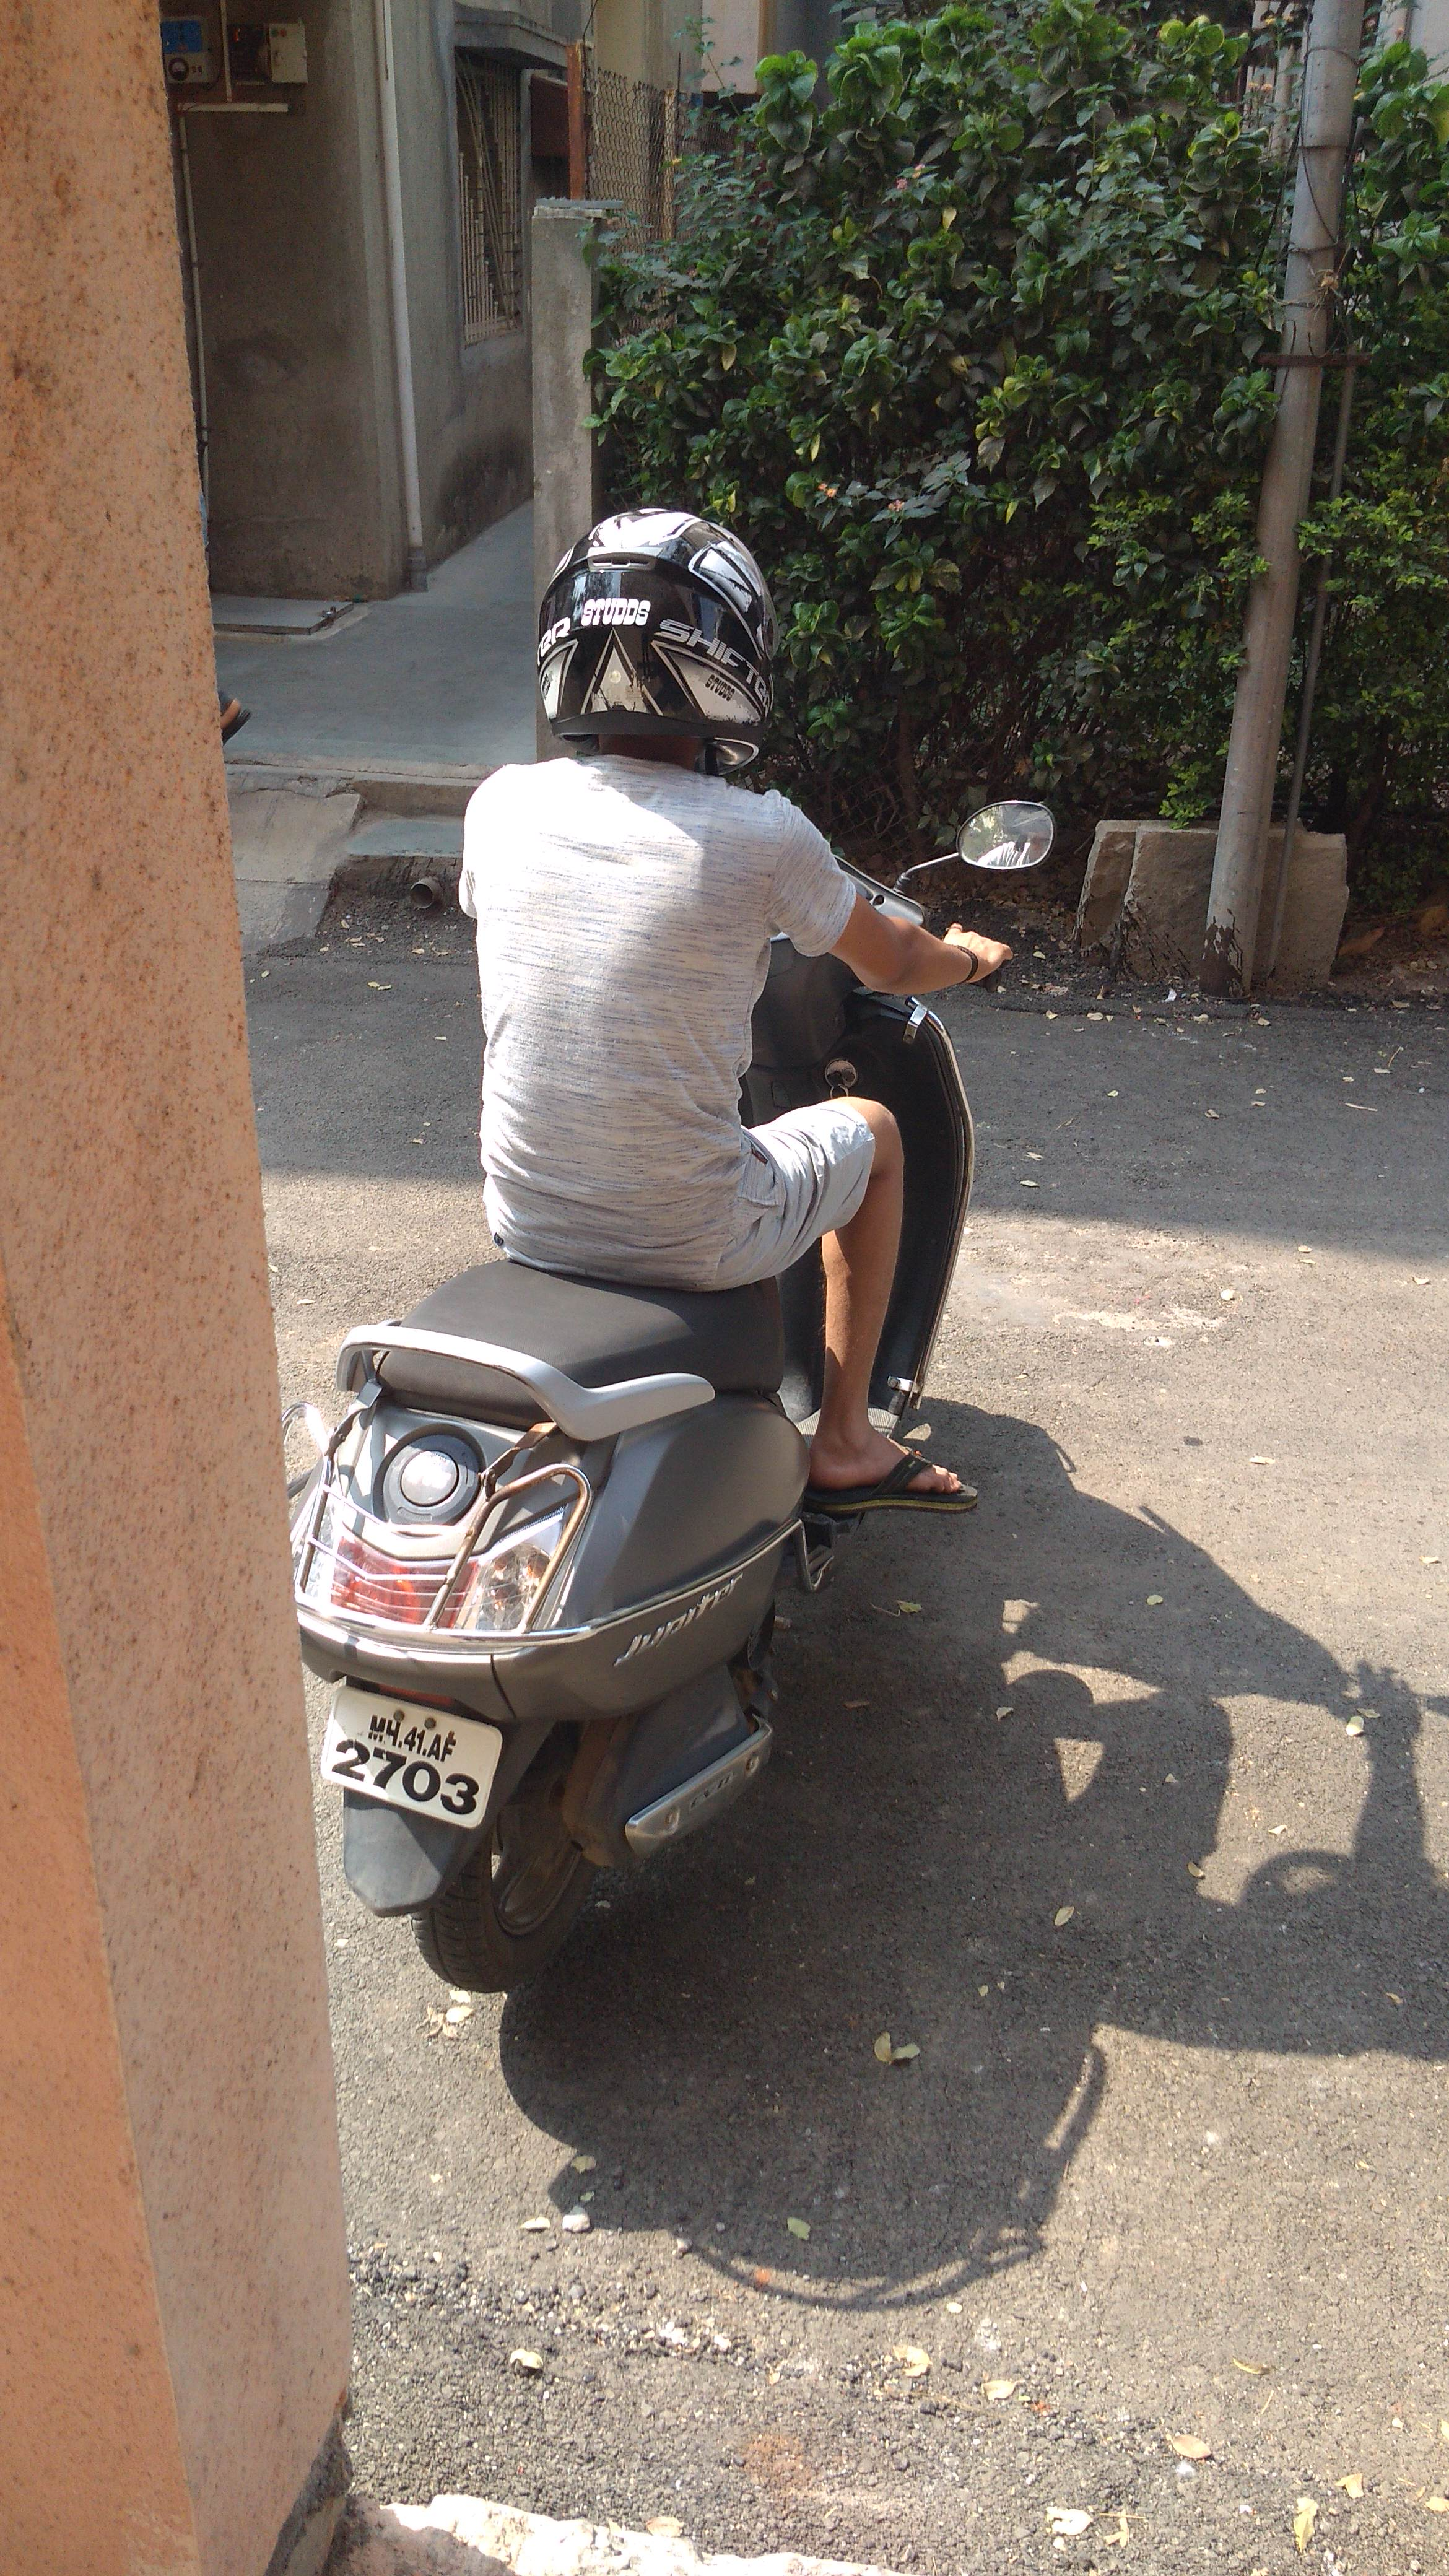helmet: (423, 495, 881, 1297)
